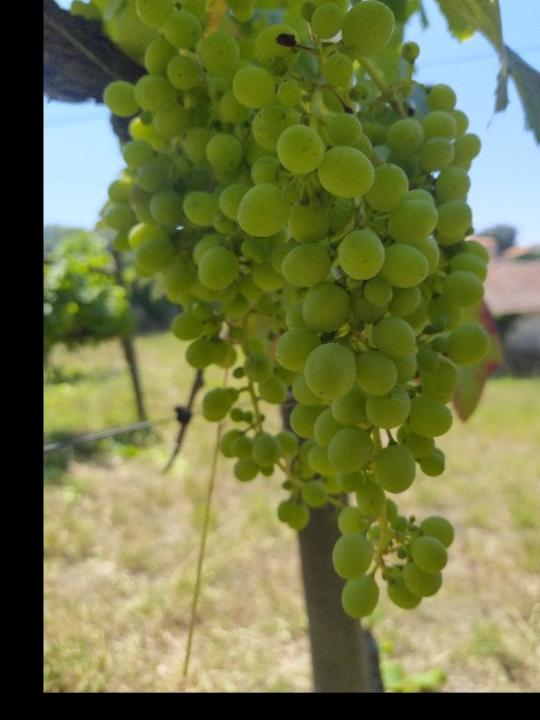grape: (98, 0, 494, 619)
